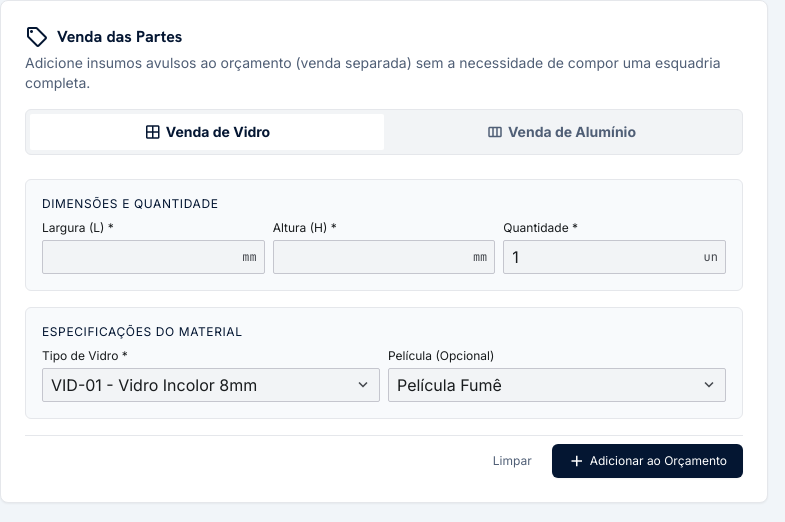
SeparateSaleForm Component [Joseph Nichollas] › deve limpar os campos ao clicar no botão Limpar
Type "1500" into the number field named "width" below "Largura (L) *" at (153, 257), box [42, 240, 265, 274]
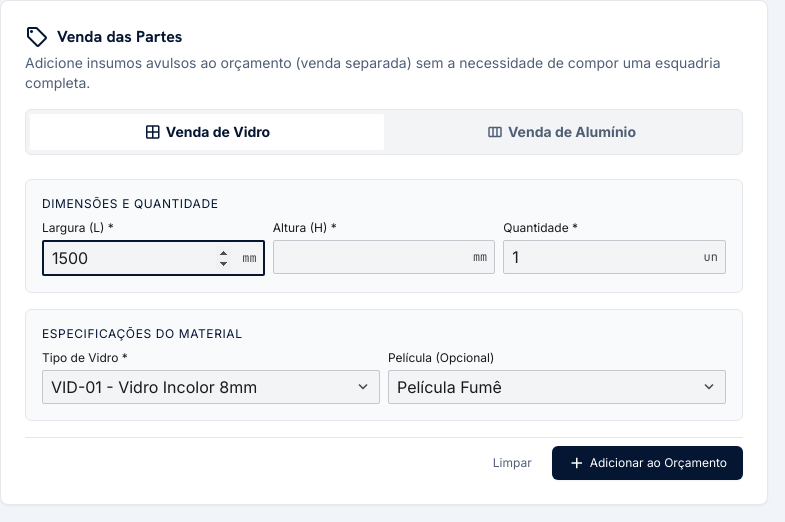
Click the button "Limpar" at (512, 463), box [477, 446, 548, 480]
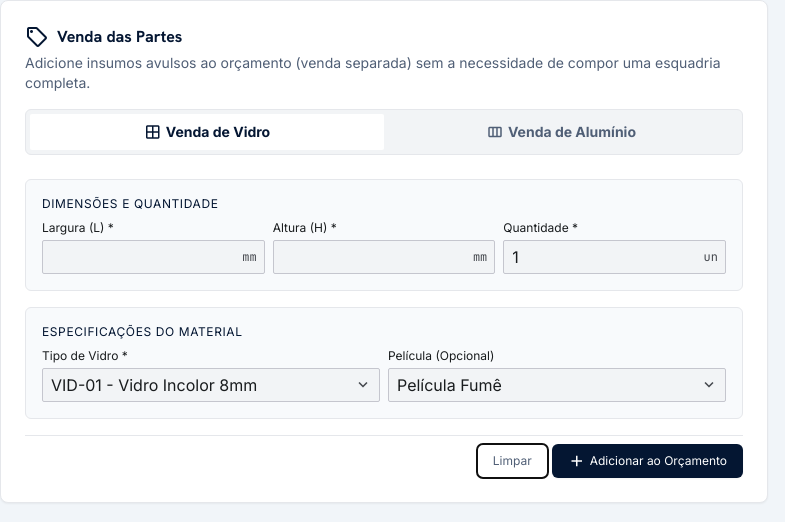
Expected: the number field named "width" below "Largura (L) *" is empty, [42, 240, 265, 274]
